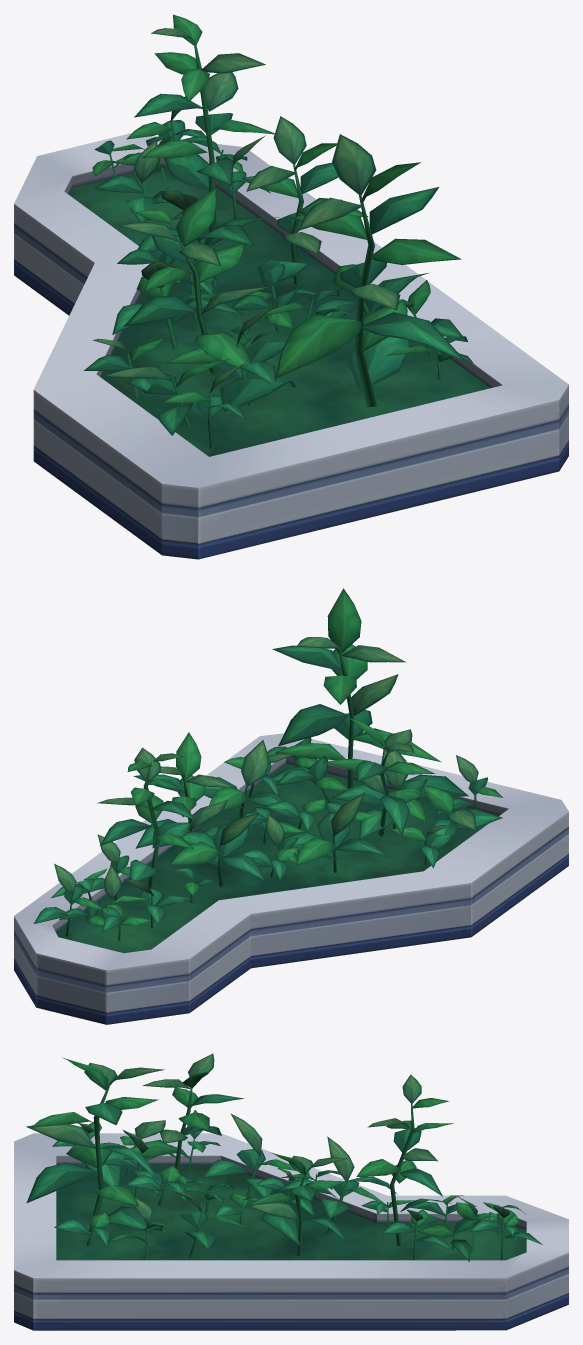
File: my_carrier_01_plantpot_01.glb
3 renders of one model, top to bottom at view 1: azimuth 30°, elevation 25°; view 2: azimuth 150°, elevation 25°; view 3: azimuth 270°, elevation 25°, orthographic. The views are drawn at different scales.
Visible parts, largest first — view 1: my_carrier_01_plantpot_01; view 2: my_carrier_01_plantpot_01; view 3: my_carrier_01_plantpot_01.
Boxes of the visible parts, bbox=[...] form: my_carrier_01_plantpot_01: bbox=[14, 14, 568, 559]; my_carrier_01_plantpot_01: bbox=[14, 588, 568, 1024]; my_carrier_01_plantpot_01: bbox=[14, 1053, 568, 1330].
Bounding box in the file's own units: 0.0126 × 0.0092 × 0.0203.
1 material, 1 textured.
